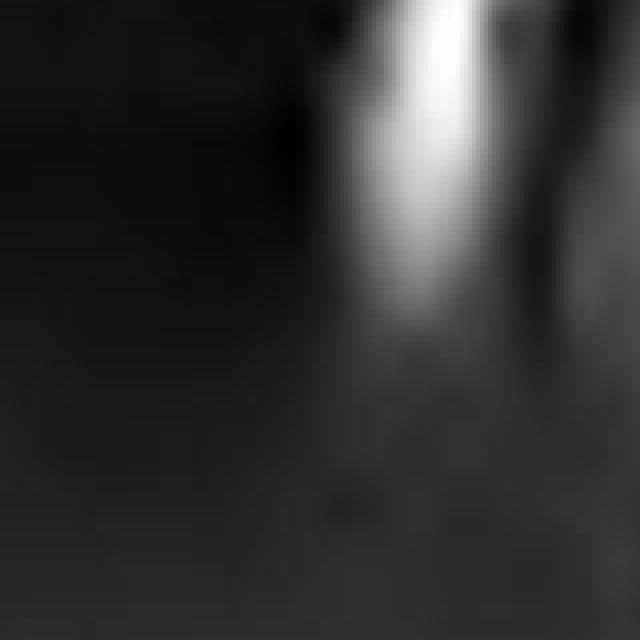person: (329, 1, 525, 369)
